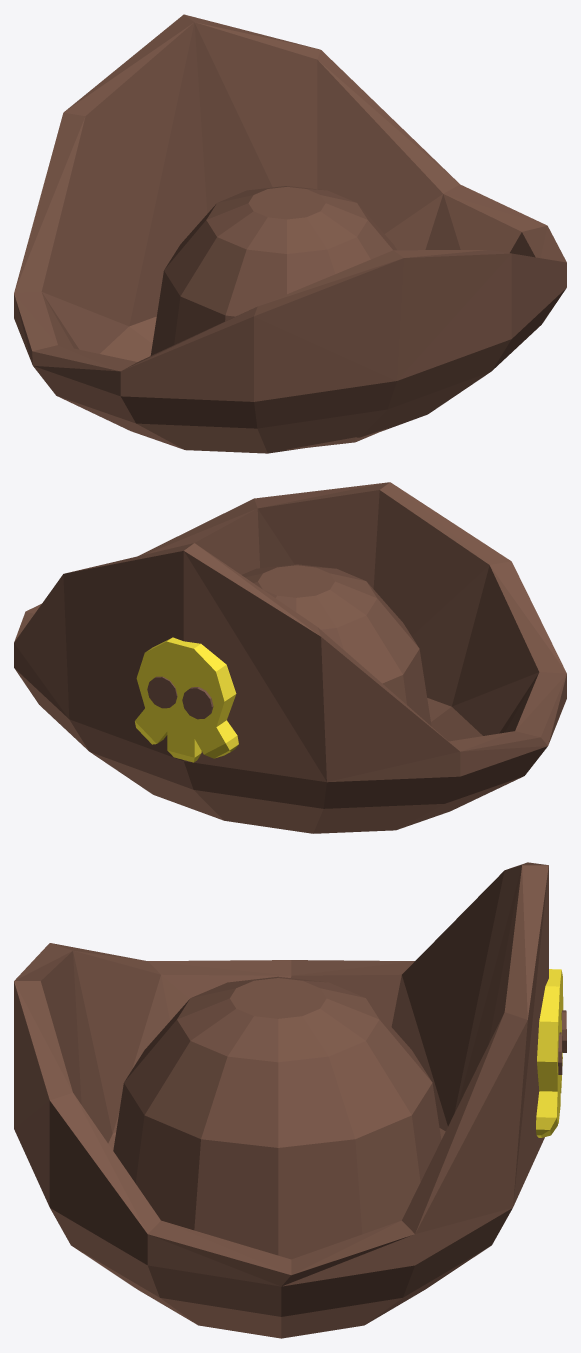
File: group1512100864_lev3.glb
3 views of the same model, one above another, from view 1: azimuth 30°, elevation 25°; view 2: azimuth 150°, elevation 25°; view 3: azimuth 270°, elevation 25° (orthographic). The views are drawn at different scales.
Visible parts, largest first — view 1: group1512100864_lev3; view 2: group1512100864_lev3; view 3: group1512100864_lev3.
Boxes of the visible parts, x1=… form: group1512100864_lev3: x1=14, y1=14, x2=566, y2=453; group1512100864_lev3: x1=14, y1=482, x2=566, y2=833; group1512100864_lev3: x1=14, y1=862, x2=566, y2=1338.
Bounding box in the file's own units: 3.09 × 1.85 × 2.27.
